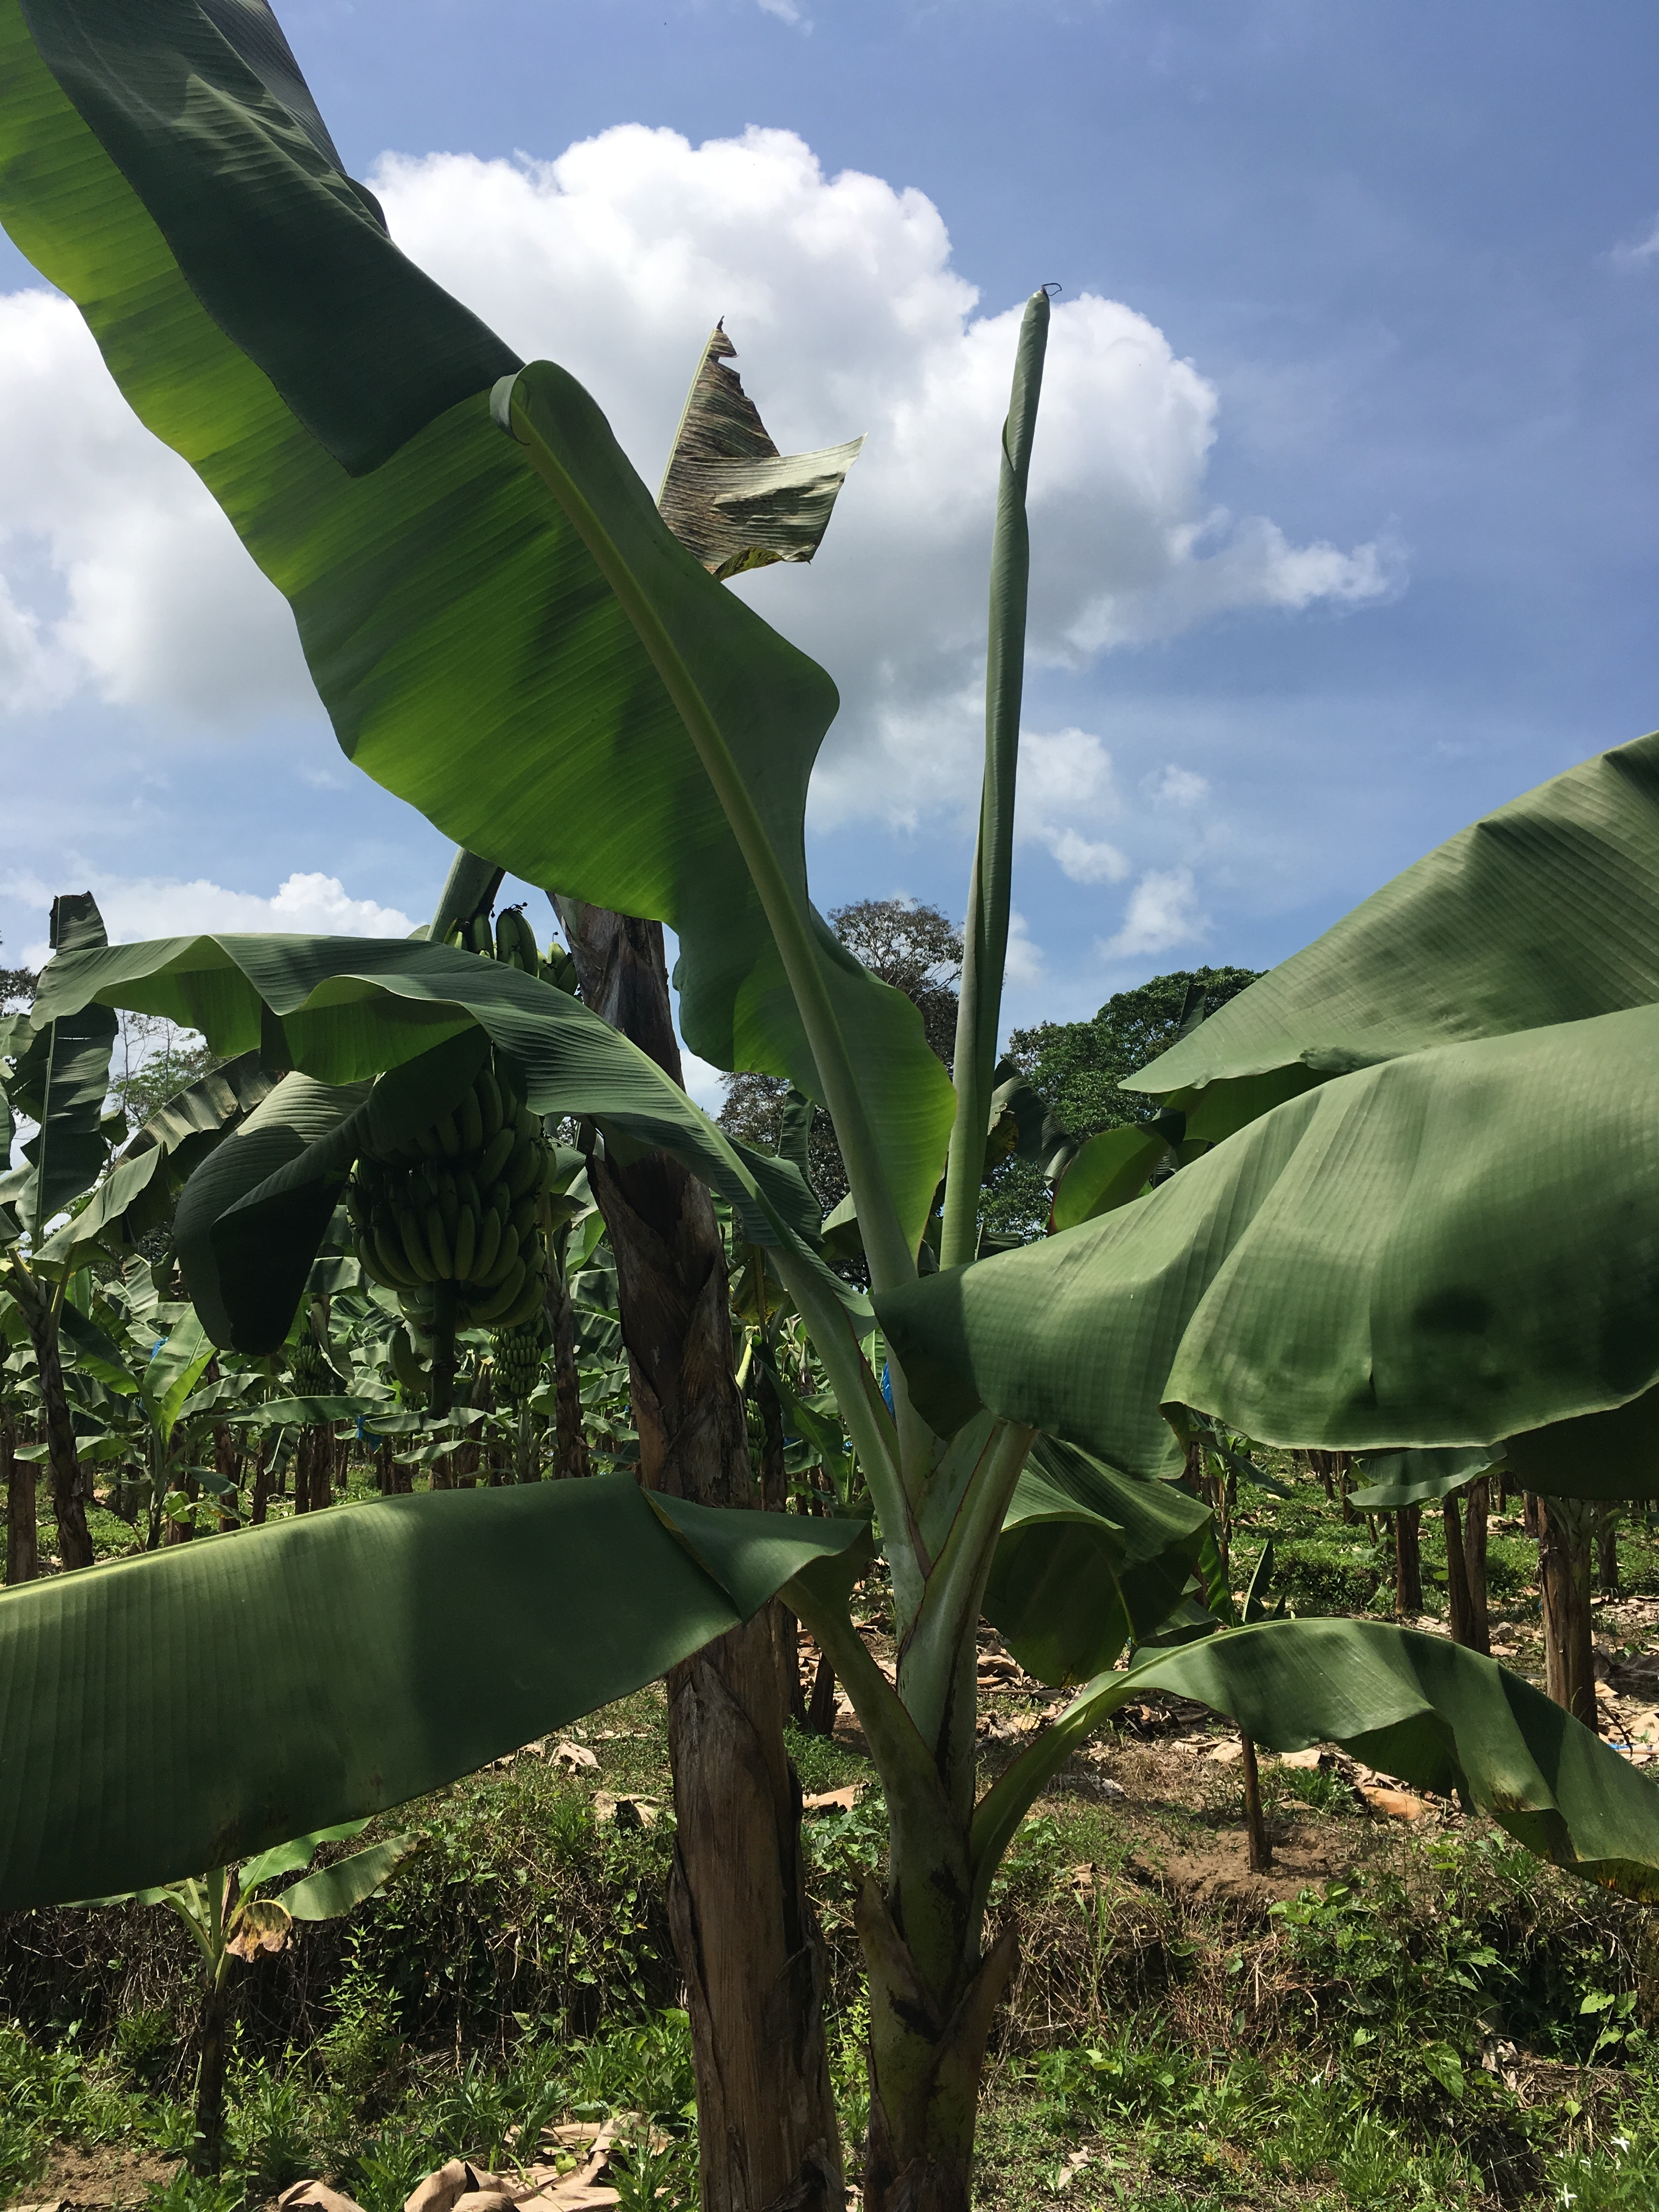candleleafs: (931, 280, 1061, 1240)
